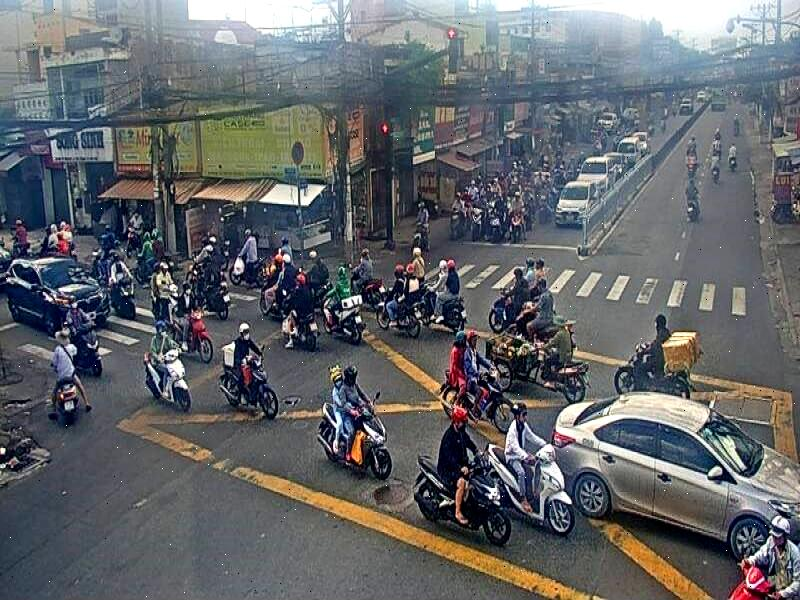car: (551, 391, 800, 564), (6, 255, 111, 336), (556, 181, 600, 229), (578, 157, 616, 199), (606, 150, 629, 179), (0, 239, 12, 289)
motorcycle: (414, 444, 512, 548), (487, 443, 576, 538), (316, 390, 392, 481), (440, 369, 516, 437), (219, 344, 279, 421), (615, 342, 696, 399), (507, 304, 576, 354), (143, 341, 191, 412), (323, 284, 368, 346), (62, 314, 102, 377), (376, 287, 423, 340), (422, 285, 469, 334), (172, 309, 213, 364), (282, 292, 320, 350), (728, 563, 785, 600), (188, 278, 231, 321), (349, 264, 386, 312), (260, 273, 299, 316), (489, 286, 525, 332), (229, 251, 270, 290), (149, 284, 187, 324), (299, 268, 334, 311), (110, 277, 138, 320), (57, 379, 80, 416), (414, 220, 430, 262), (450, 209, 466, 239), (686, 198, 702, 221), (511, 214, 523, 242), (491, 216, 502, 241)
